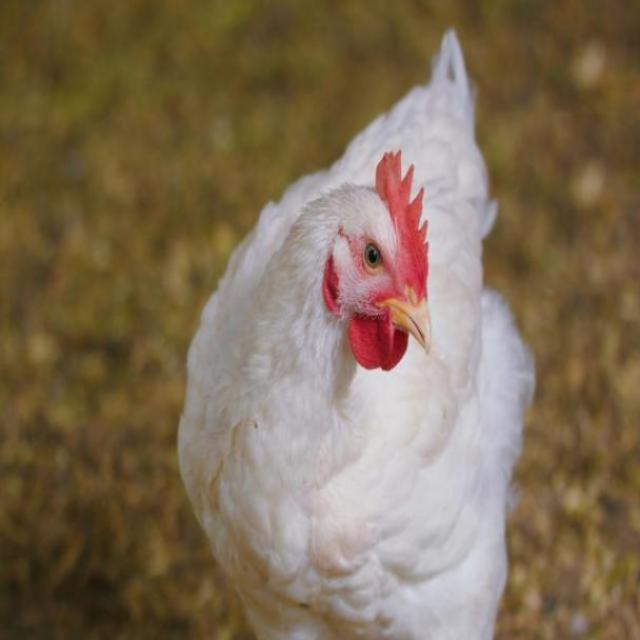Chicken: (187, 47, 556, 640)
